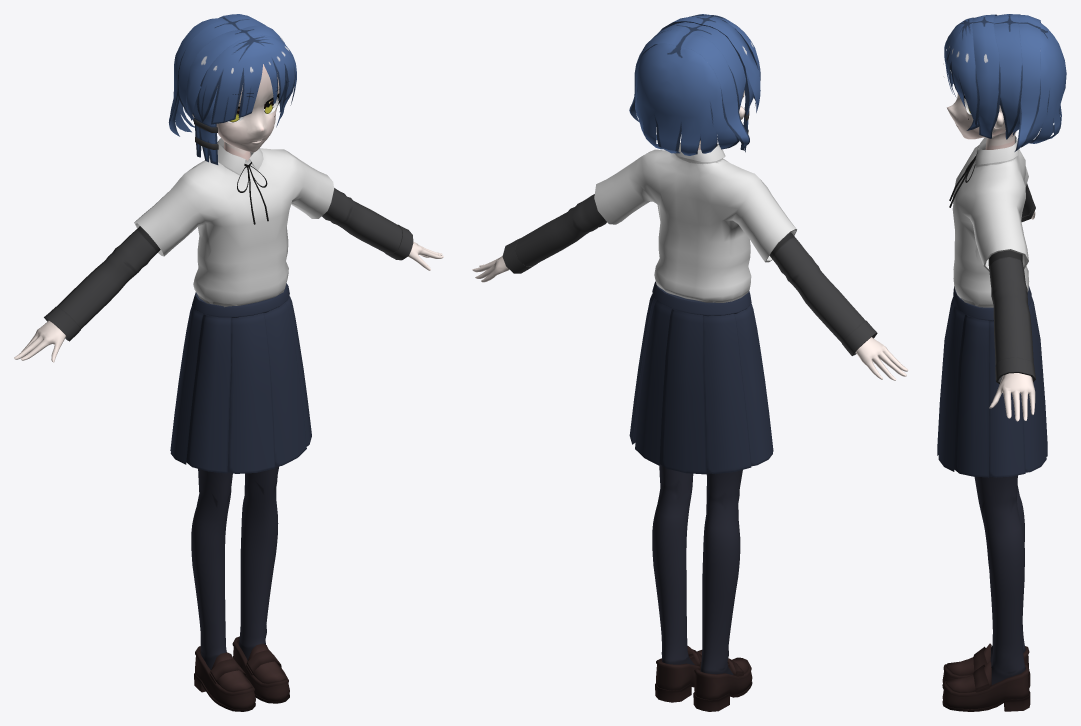
3 renders of one model, left to right at view 1: azimuth 30°, elevation 25°; view 2: azimuth 150°, elevation 25°; view 3: azimuth 270°, elevation 25°, orthographic. The views are drawn at different scales.
Visible parts, largest first — view 1: 头发服饰, 身体; view 2: 头发服饰, 身体; view 3: 头发服饰, 身体.
Part boxes in pixels (x1,y1,x2,y2): 头发服饰: (44, 14, 413, 711); 身体: (14, 64, 443, 362); 头发服饰: (502, 14, 877, 711); 身体: (472, 90, 908, 380); 头发服饰: (937, 14, 1066, 711); 身体: (947, 93, 1035, 421).
Size of the model in its own units: 175 by 258 by 44.84.
Materials: 3 (3 with a texture image).
